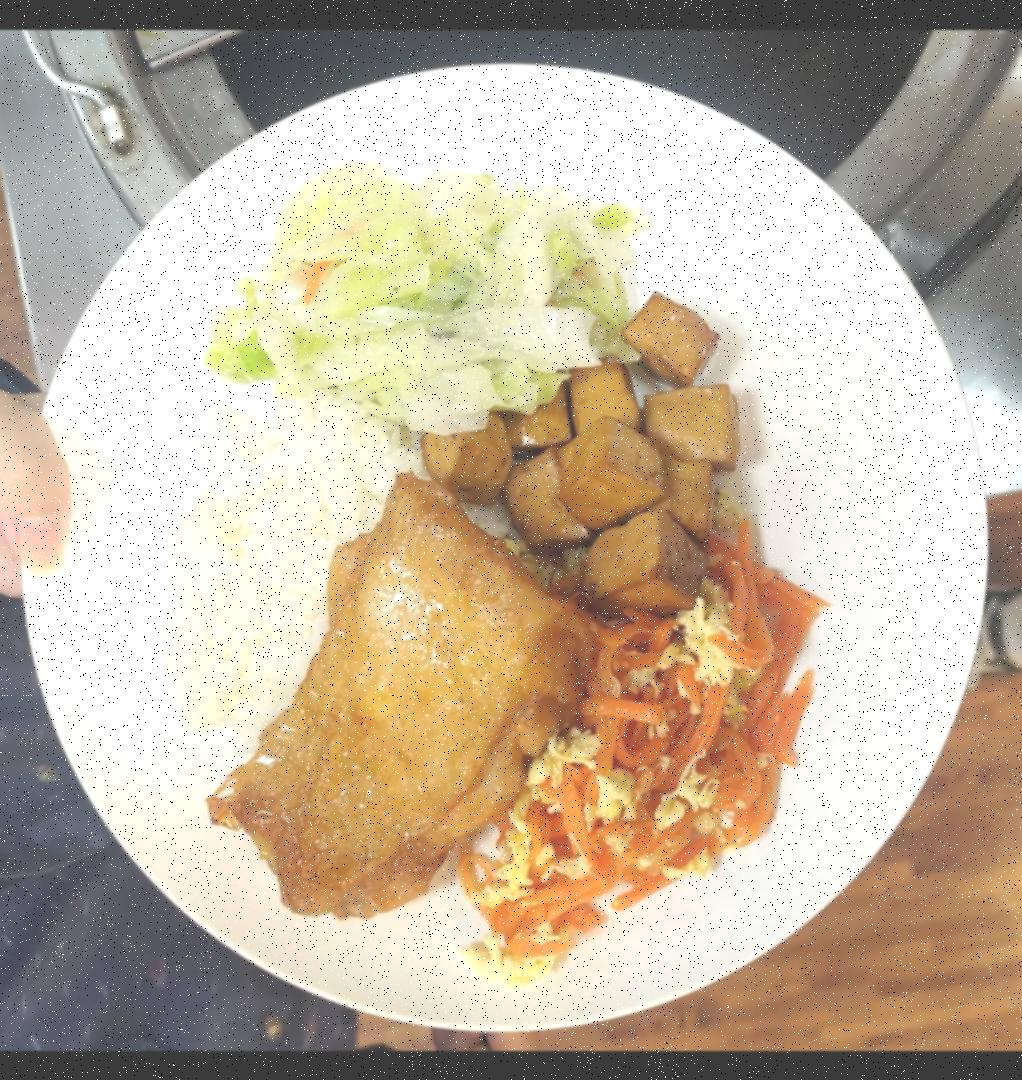big fried chicken leg: (6, 45, 977, 1023)
big herbal chicken leg: (149, 379, 412, 748)
braised fish fillet: (459, 555, 831, 978), (202, 167, 628, 423), (421, 291, 751, 605)
braised pork: (200, 470, 585, 944)
